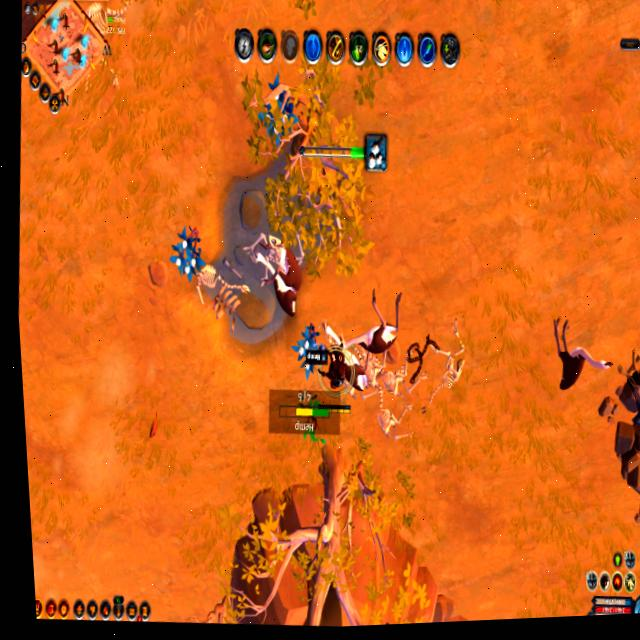hide: (167, 224, 207, 287), (292, 323, 324, 376)
mob: (341, 281, 407, 369), (251, 230, 313, 322), (335, 339, 374, 397)
ore: (544, 309, 618, 404)
red: (321, 351, 356, 416)
